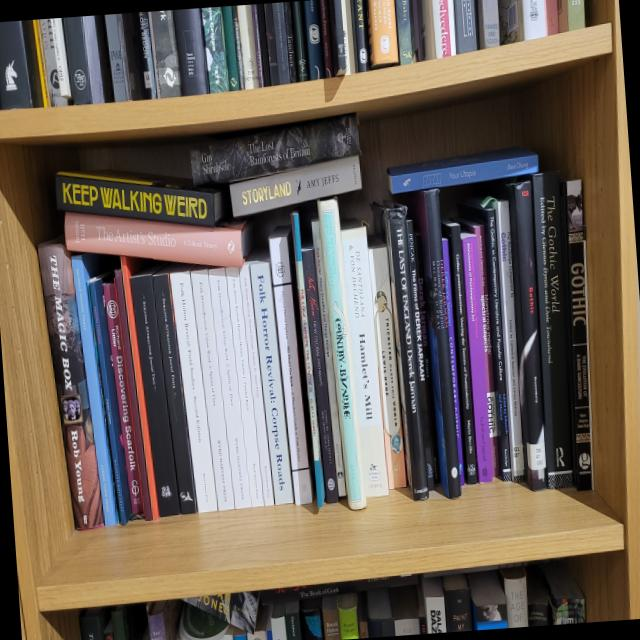book: (395, 187, 462, 500), (36, 238, 106, 530), (371, 200, 429, 502), (457, 196, 514, 483), (316, 196, 367, 510), (497, 178, 548, 491), (71, 250, 124, 528), (339, 218, 390, 498), (186, 111, 365, 190), (530, 172, 574, 489), (481, 195, 528, 483), (129, 264, 181, 517), (453, 215, 501, 479), (267, 224, 312, 505), (168, 266, 219, 512), (151, 268, 198, 515), (189, 267, 236, 511), (248, 256, 294, 504), (62, 210, 254, 269), (52, 165, 230, 228), (88, 277, 133, 524), (207, 266, 252, 509), (560, 179, 595, 491), (289, 212, 326, 505), (299, 240, 340, 503), (120, 255, 160, 520), (366, 235, 407, 489), (310, 217, 347, 497), (101, 282, 145, 516), (113, 269, 153, 520), (441, 219, 478, 484), (224, 265, 264, 506), (225, 152, 366, 219), (237, 260, 275, 505), (460, 231, 495, 483), (404, 218, 436, 491), (385, 143, 540, 196), (413, 231, 440, 484), (441, 238, 466, 484)
